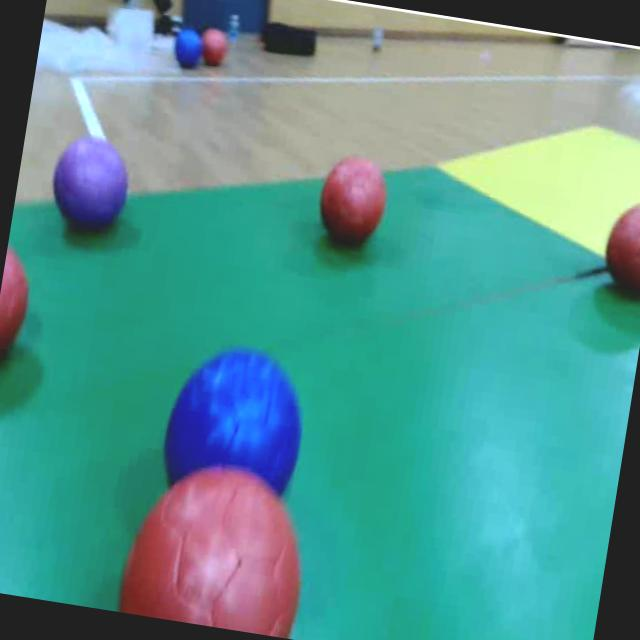blue_ball: (158, 335, 318, 483), (171, 25, 203, 72)
purple_ball: (45, 129, 135, 242)
red_ball: (115, 473, 312, 639), (310, 147, 392, 254), (598, 192, 640, 304), (0, 238, 35, 368), (200, 28, 229, 70)
